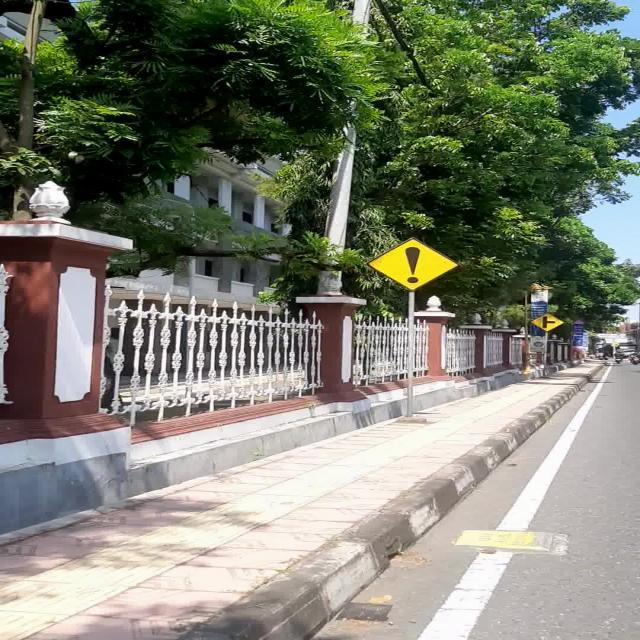Hati-Hati: (366, 237, 459, 290)
